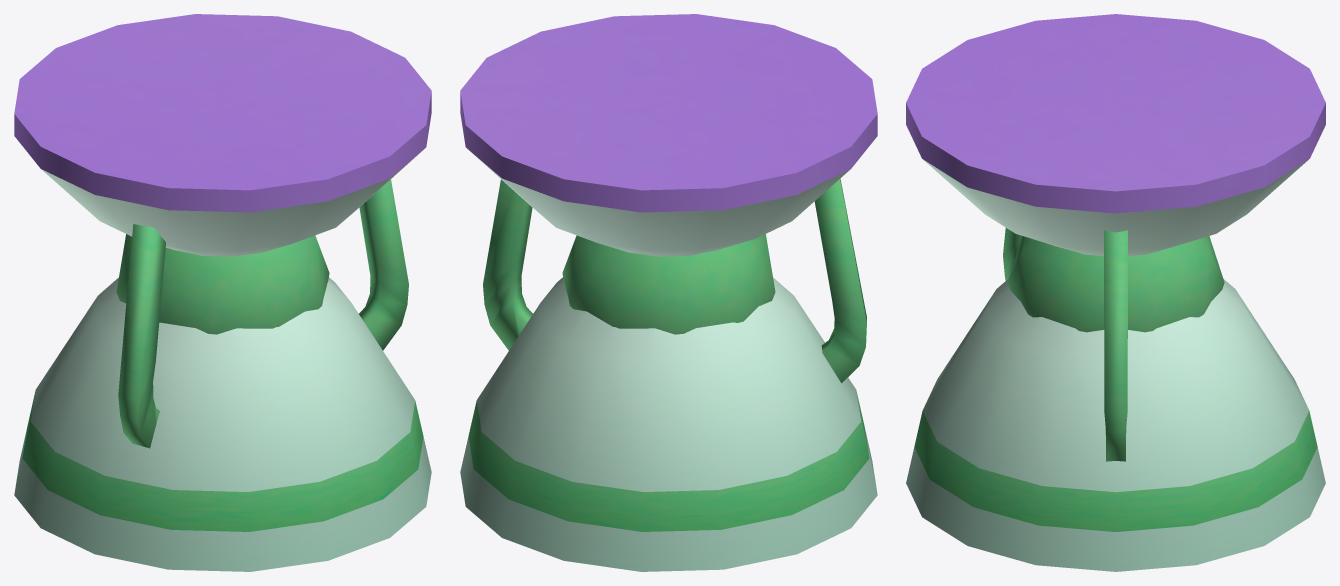
Rendered from Engine 2.fbx.
3 renders of one model, left to right at view 1: azimuth 30°, elevation 25°; view 2: azimuth 150°, elevation 25°; view 3: azimuth 270°, elevation 25°, orthographic.
Parts seen in each view (by area): view 1: Engine 2; view 2: Engine 2; view 3: Engine 2.
Boxes of the visible parts, <box> form: Engine 2: <box>14,14,431,571</box>; Engine 2: <box>460,14,877,571</box>; Engine 2: <box>906,14,1325,571</box>.
Size of the model in its own units: 100 by 100 by 100.
